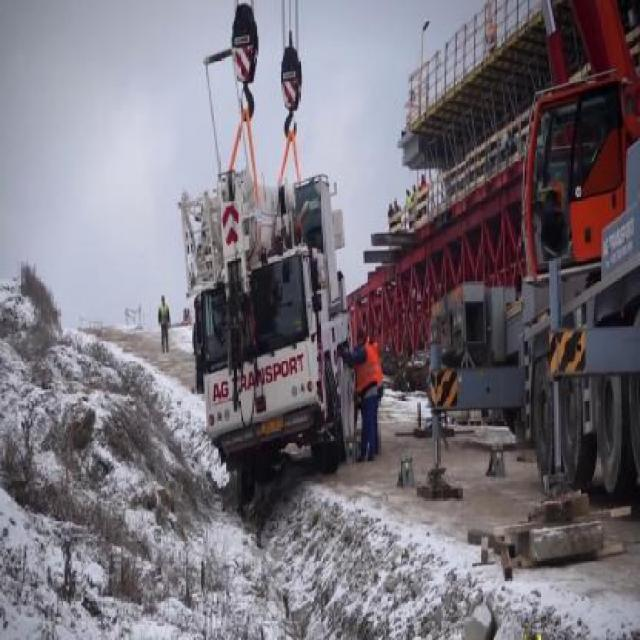Mobile Crane: (439, 0, 638, 534), (172, 160, 365, 474)
